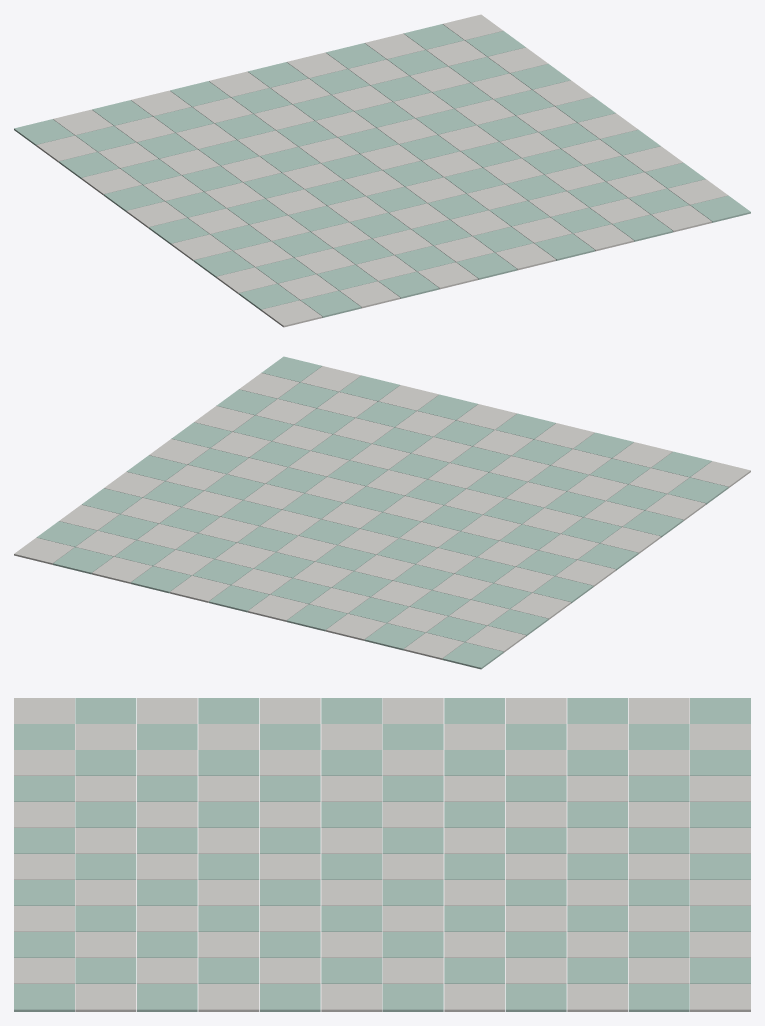
The model's file is home_floor_tiles__mint.glb.
3 views of the same model, one above another, from view 1: azimuth 30°, elevation 25°; view 2: azimuth 150°, elevation 25°; view 3: azimuth 270°, elevation 25° (orthographic). The views are drawn at different scales.
Size of the model in its own units: 11.99 by 0.0401 by 11.99.
